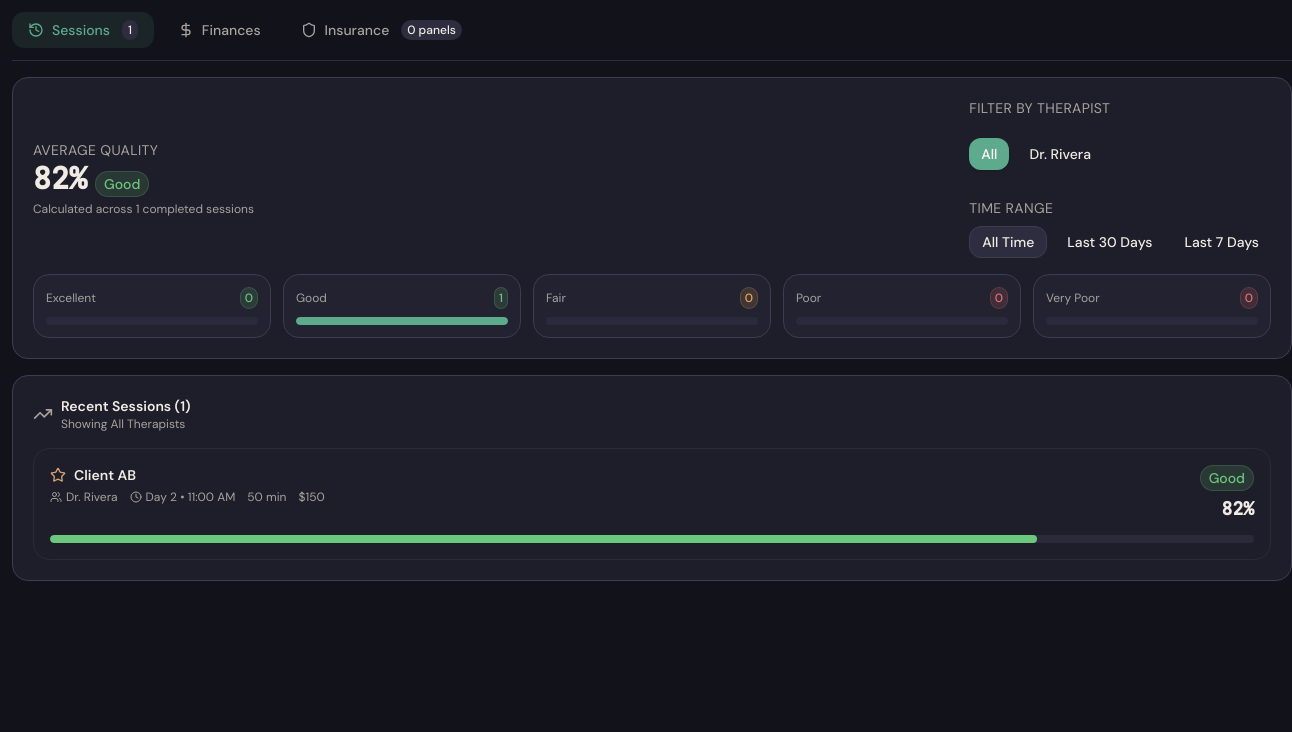
Test: PracticePanel › subtab navigation › switches to Finances tab when clicked
Click the button "Finances" at point(219, 30), box [162,12,277,48]
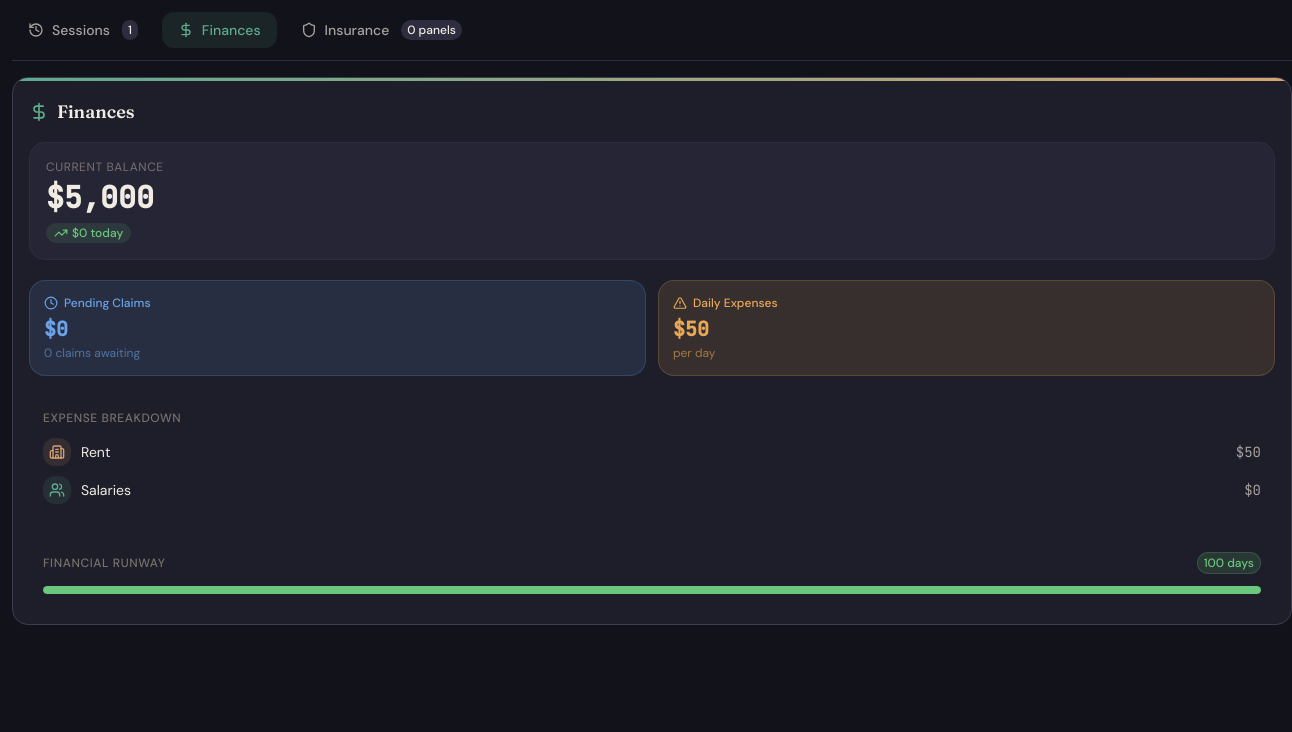
Result: the text "Current Balance" is shown at [46,159,164,175]
